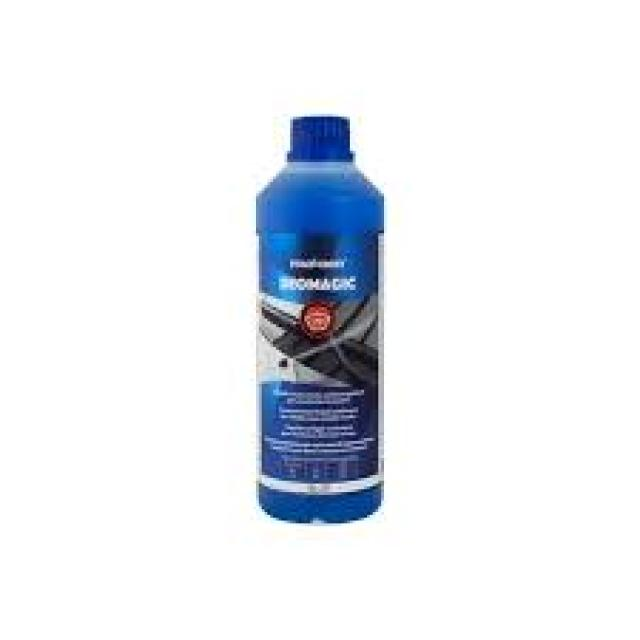winwinshield_washer: (249, 108, 390, 526)
